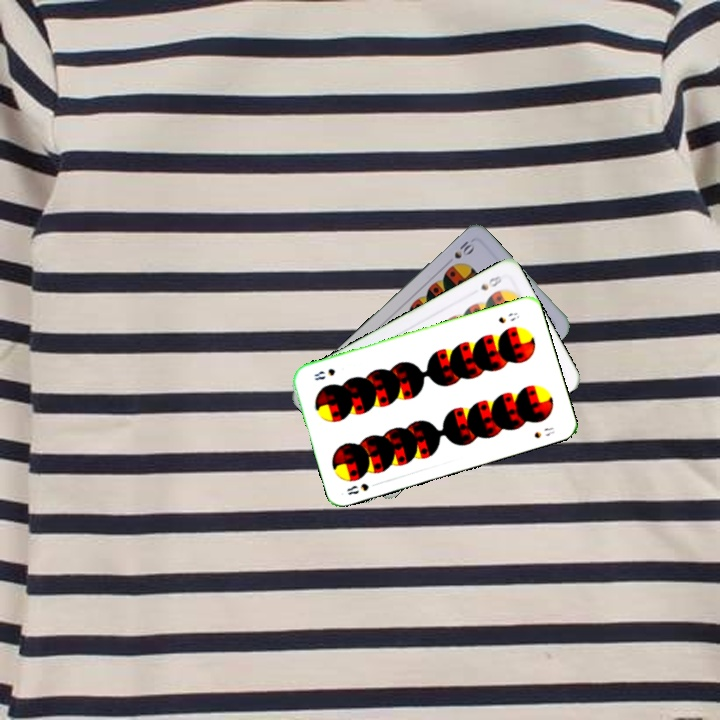S10: (443, 237, 477, 267)
S8: (343, 479, 381, 498), (476, 270, 506, 293), (494, 308, 522, 326)
